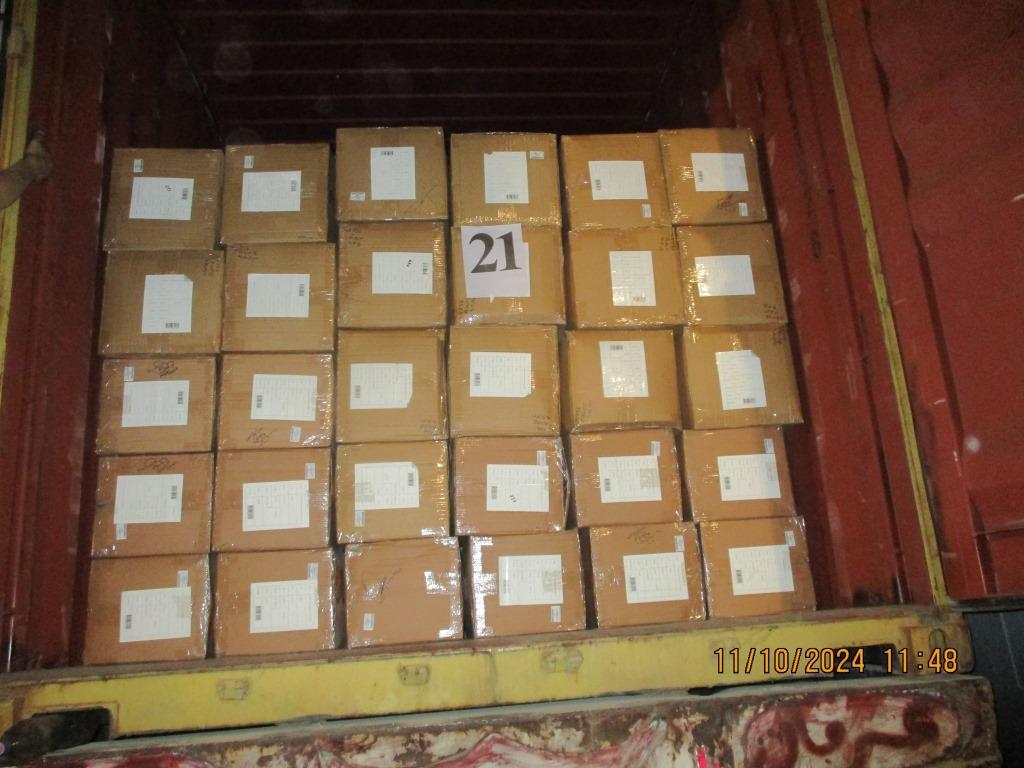carton: (211, 547, 343, 655), (84, 554, 211, 664), (98, 250, 223, 355), (343, 536, 462, 646), (464, 530, 586, 637), (335, 329, 448, 444), (91, 452, 214, 557), (677, 326, 802, 429), (447, 324, 561, 436), (220, 242, 336, 352), (584, 522, 704, 628), (212, 447, 332, 552), (561, 328, 681, 432), (103, 148, 224, 251), (566, 227, 686, 328), (336, 220, 448, 328), (96, 354, 216, 454), (335, 439, 449, 543), (449, 223, 565, 324), (699, 516, 815, 617), (566, 429, 682, 528), (451, 435, 565, 535), (217, 353, 334, 450), (676, 223, 786, 326), (220, 142, 329, 244), (681, 426, 795, 521), (559, 133, 670, 230), (334, 126, 447, 221), (659, 128, 767, 225), (449, 131, 560, 225)
